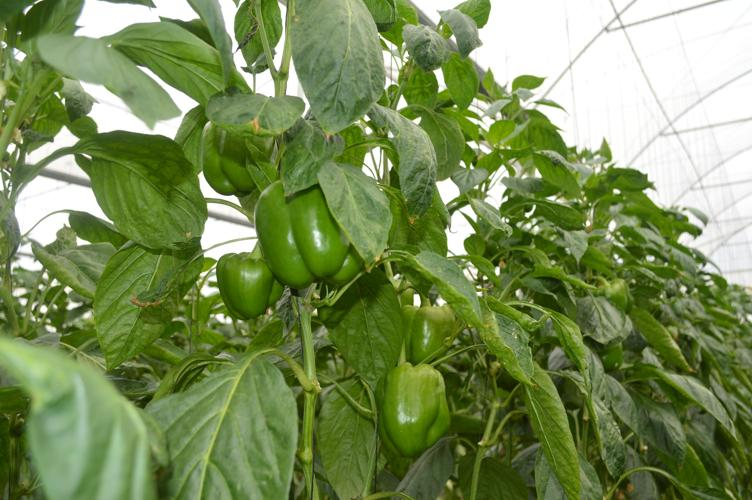BellPepper: (254, 184, 362, 286), (370, 366, 451, 454), (198, 122, 275, 192), (214, 249, 287, 318), (397, 299, 452, 363)
